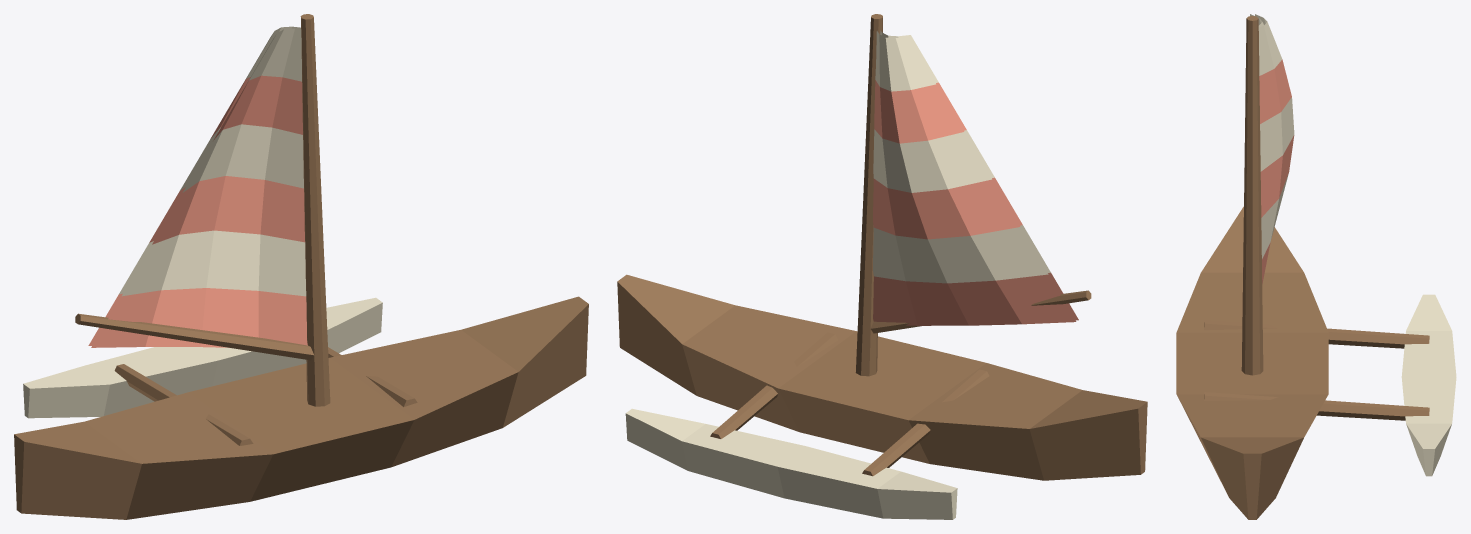
The model's file is SM_Trop_Sailboat_Outrigger.fbx.
The picture shows the model from 3 angles, left to right: view 1: azimuth 30°, elevation 25°; view 2: azimuth 150°, elevation 25°; view 3: azimuth 270°, elevation 25°; orthographic projection. The views are drawn at different scales.
Visible parts, largest first — view 1: SM_Trop_Sailboat_Outrigger; view 2: SM_Trop_Sailboat_Outrigger; view 3: SM_Trop_Sailboat_Outrigger.
Boxes of the visible parts, x1,y1,x2,y2 form: SM_Trop_Sailboat_Outrigger: (14, 14, 588, 519); SM_Trop_Sailboat_Outrigger: (617, 14, 1147, 519); SM_Trop_Sailboat_Outrigger: (1176, 14, 1456, 519).
Bounding box in the file's own units: 960 × 460 × 735.
